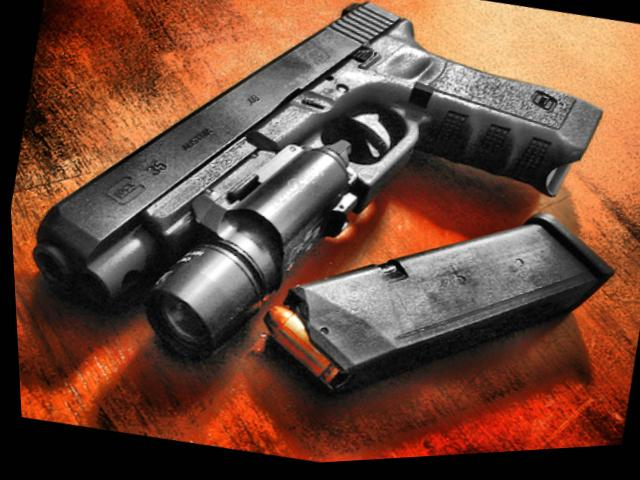pistol: (3, 0, 625, 444)
